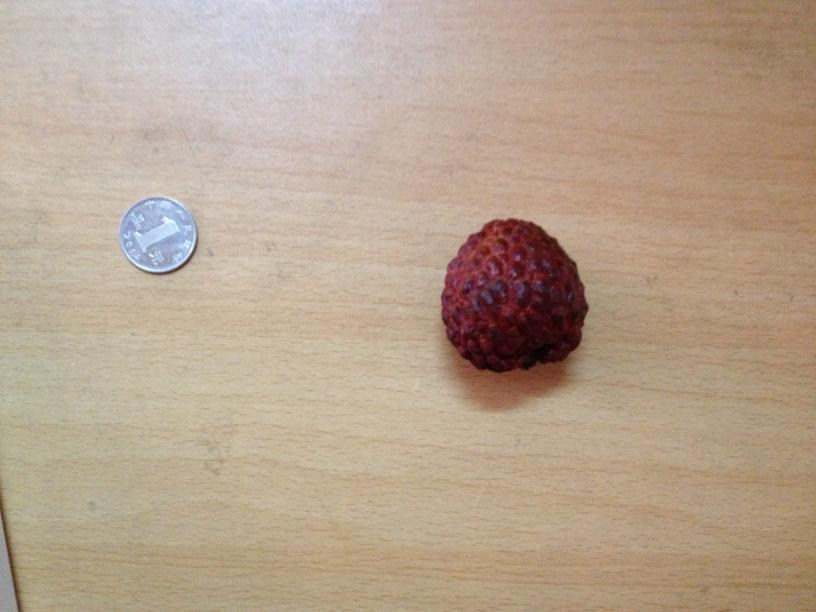coin: (117, 197, 197, 274)
litchi: (440, 215, 587, 373)
